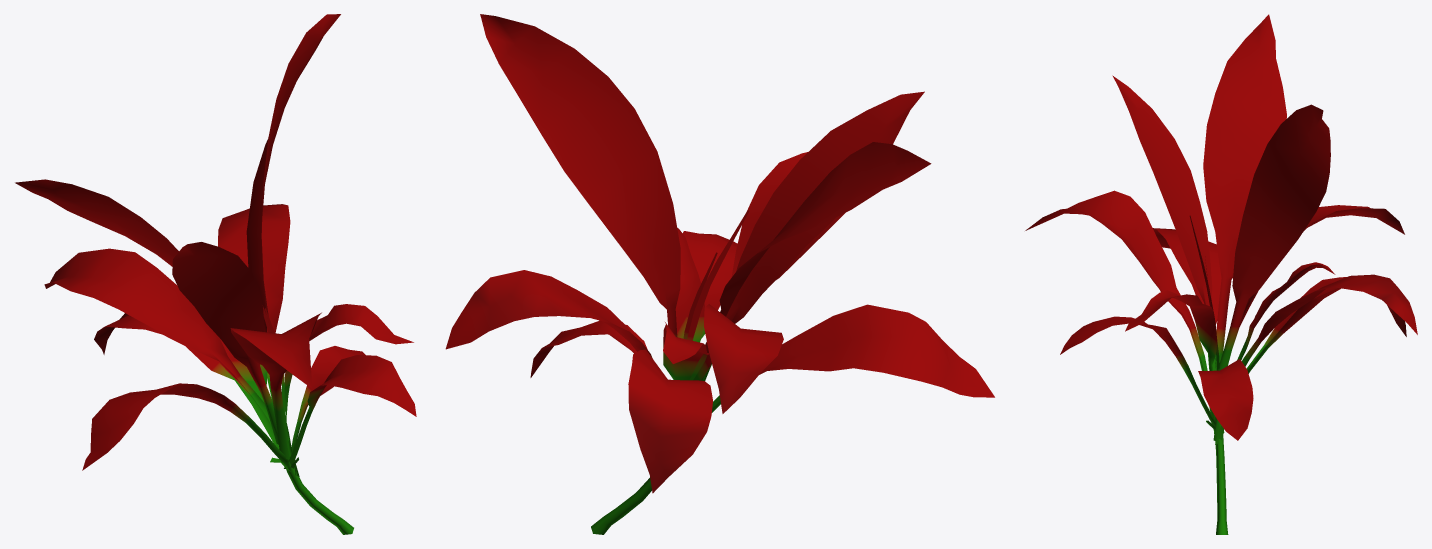
File: Var1_LOD0.fbx
3 views of the same model, side by side, from view 1: azimuth 30°, elevation 25°; view 2: azimuth 150°, elevation 25°; view 3: azimuth 270°, elevation 25° (orthographic). The views are drawn at different scales.
Visible parts, largest first — view 1: _66af_Var1_LOD0; view 2: _66af_Var1_LOD0; view 3: _66af_Var1_LOD0.
Part boxes in pixels (x1,y1,x2,y2): _66af_Var1_LOD0: (15, 14, 416, 534); _66af_Var1_LOD0: (445, 14, 994, 534); _66af_Var1_LOD0: (1025, 14, 1417, 534).
Size of the model in its own units: 26.95 by 33.96 by 27.5.
